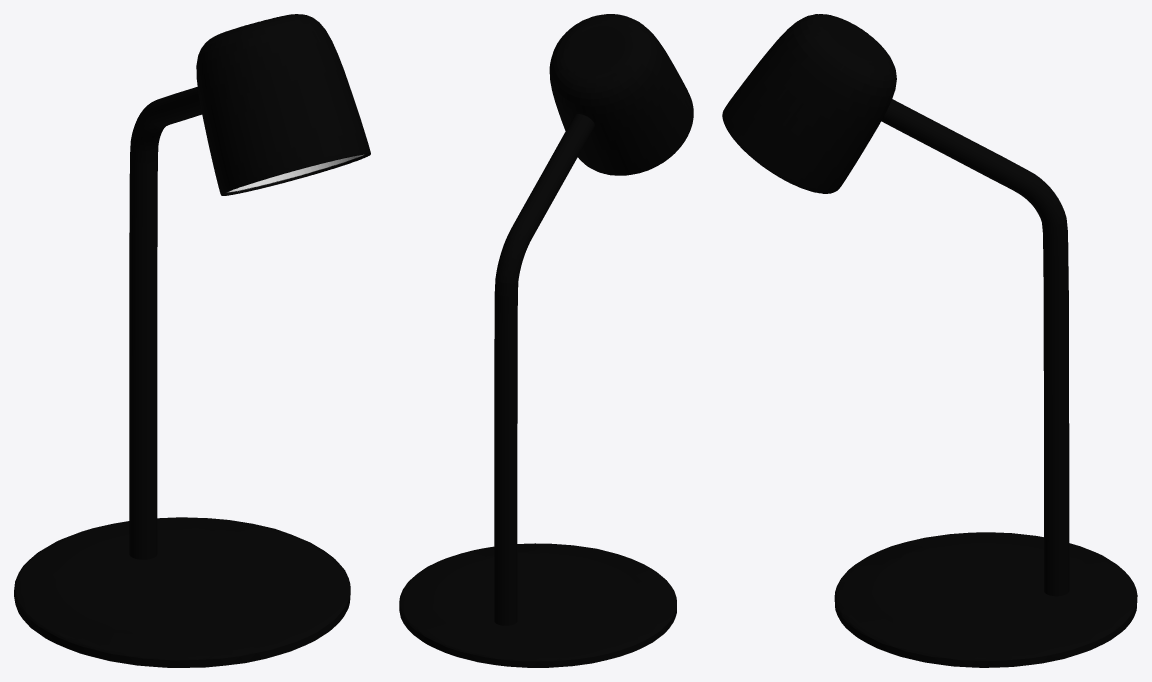
The model's file is desk-lamp.glb.
3 views of the same model, side by side, from view 1: azimuth 30°, elevation 25°; view 2: azimuth 150°, elevation 25°; view 3: azimuth 270°, elevation 25° (orthographic). The views are drawn at different scales.
Visible parts, largest first — view 1: lamp.001_plastic_0, lamp.001_plastic.001_0; view 2: lamp.001_plastic_0; view 3: lamp.001_plastic_0.
Boxes of the visible parts, x1,y1,x2,y2 form: lamp.001_plastic_0: (14,14,370,667); lamp.001_plastic.001_0: (229,154,363,191); lamp.001_plastic_0: (399,14,693,667); lamp.001_plastic_0: (722,14,1137,667).
Size of the model in its own units: 5.96 by 12.64 by 8.17.
2 materials, 1 textured.
